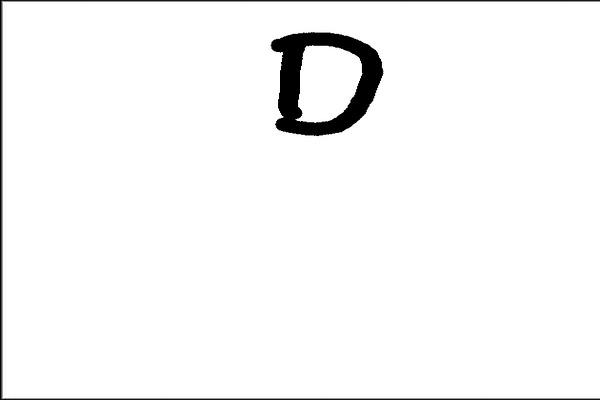D: (263, 26, 388, 141)
